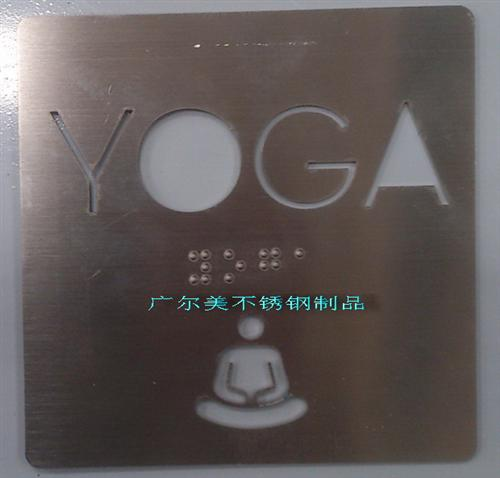Braille: (223, 248, 248, 287), (188, 249, 213, 286), (294, 247, 319, 284), (259, 249, 282, 284)
